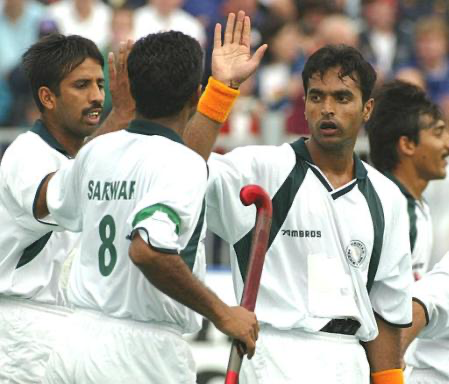Face: (306, 70, 362, 153), (57, 61, 106, 135), (422, 107, 447, 183)
